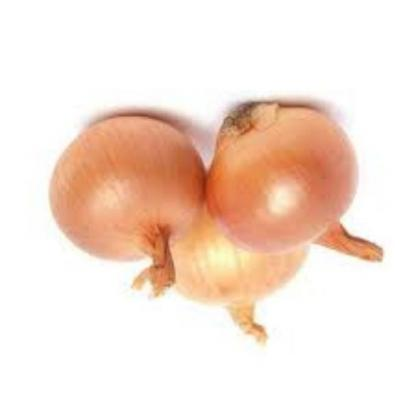onion: (202, 83, 373, 260), (43, 106, 216, 273), (170, 204, 329, 316)
